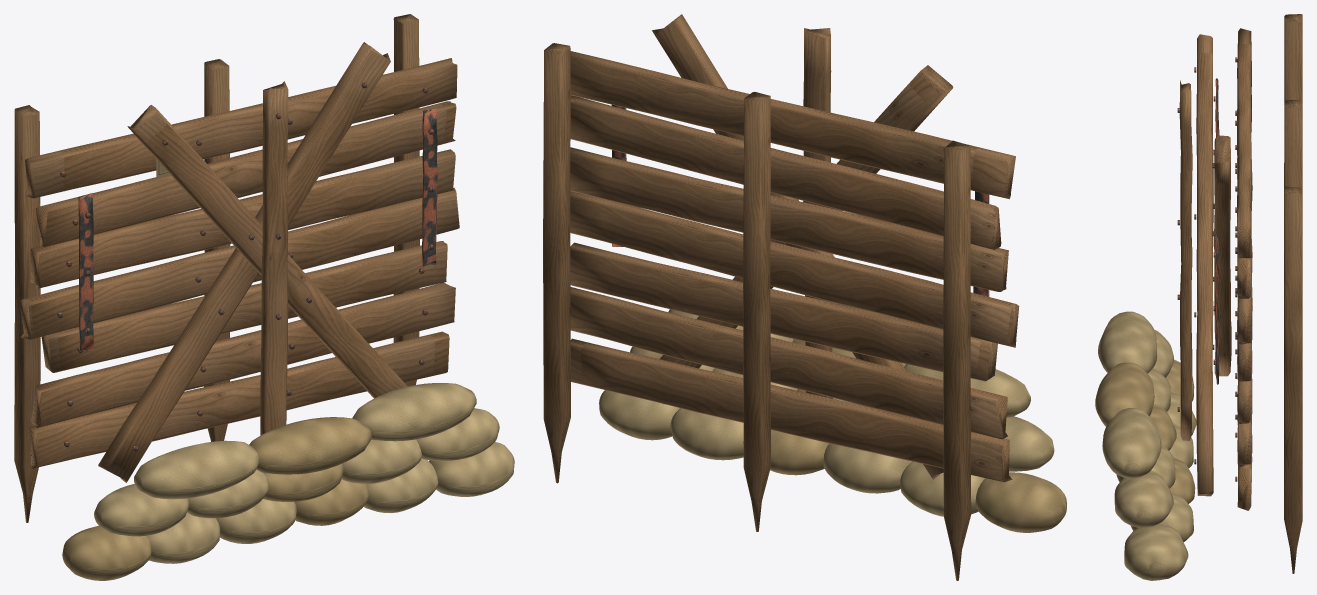
Rendered from PROJECT_Z_Barricade_Variation_03.glb.
The picture shows the model from 3 angles, left to right: view 1: azimuth 30°, elevation 25°; view 2: azimuth 150°, elevation 25°; view 3: azimuth 270°, elevation 25°; orthographic projection. The views are drawn at different scales.
Parts seen in each view (by area): view 1: VAR03_Fortified_184cm, VAR03_Fortified_184cm__HeavyDiagonal_SW_to_NE, VAR03_Fortified_184cm__HeavyDiagonal_NW_to_SE, VAR03_Fortified_184cm__Center_LockingRail, VAR03_Fortified_184cm__Stake_Left_Heavy, VAR03_Fortified_184cm__Stake_Right_Heavy, VAR03_Fortified_184cm__Stake_Centre_Heavy; view 2: VAR03_Fortified_184cm, VAR03_Fortified_184cm__Stake_Right_Heavy, VAR03_Fortified_184cm__Stake_Centre_Heavy, VAR03_Fortified_184cm__Stake_Left_Heavy, VAR03_Fortified_184cm__HeavyDiagonal_SW_to_NE, VAR03_Fortified_184cm__HeavyDiagonal_NW_to_SE, VAR03_Fortified_184cm__Center_LockingRail; view 3: VAR03_Fortified_184cm, VAR03_Fortified_184cm__HeavyDiagonal_NW_to_SE, VAR03_Fortified_184cm__Stake_Right_Heavy, VAR03_Fortified_184cm__Center_LockingRail, VAR03_Fortified_184cm__HeavyDiagonal_SW_to_NE, VAR03_Fortified_184cm__Stake_Centre_Heavy, VAR03_Fortified_184cm__Stake_Left_Heavy.
Part boxes in pixels (x1,y1,x2,y2): VAR03_Fortified_184cm: (19, 58, 514, 580); VAR03_Fortified_184cm__HeavyDiagonal_SW_to_NE: (98, 42, 390, 482); VAR03_Fortified_184cm__HeavyDiagonal_NW_to_SE: (127, 105, 407, 398); VAR03_Fortified_184cm__Center_LockingRail: (260, 81, 288, 435); VAR03_Fortified_184cm__Stake_Left_Heavy: (14, 105, 40, 522); VAR03_Fortified_184cm__Stake_Right_Heavy: (393, 14, 419, 386); VAR03_Fortified_184cm__Stake_Centre_Heavy: (204, 59, 230, 441); VAR03_Fortified_184cm: (570, 51, 1066, 532); VAR03_Fortified_184cm__Stake_Right_Heavy: (543, 43, 570, 483); VAR03_Fortified_184cm__Stake_Centre_Heavy: (743, 92, 770, 531); VAR03_Fortified_184cm__Stake_Left_Heavy: (943, 140, 971, 580); VAR03_Fortified_184cm__HeavyDiagonal_SW_to_NE: (652, 14, 943, 479); VAR03_Fortified_184cm__HeavyDiagonal_NW_to_SE: (660, 65, 953, 404); VAR03_Fortified_184cm__Center_LockingRail: (803, 28, 832, 398); VAR03_Fortified_184cm: (1095, 28, 1252, 580); VAR03_Fortified_184cm__HeavyDiagonal_NW_to_SE: (1196, 34, 1213, 496); VAR03_Fortified_184cm__Stake_Right_Heavy: (1284, 186, 1302, 573); VAR03_Fortified_184cm__Center_LockingRail: (1179, 80, 1192, 440); VAR03_Fortified_184cm__HeavyDiagonal_SW_to_NE: (1214, 135, 1231, 376); VAR03_Fortified_184cm__Stake_Centre_Heavy: (1284, 100, 1302, 334); VAR03_Fortified_184cm__Stake_Left_Heavy: (1284, 14, 1302, 248).
Size of the model in its own units: 1.97 by 1.88 by 0.866.
Materials: 6 (6 with a texture image).
